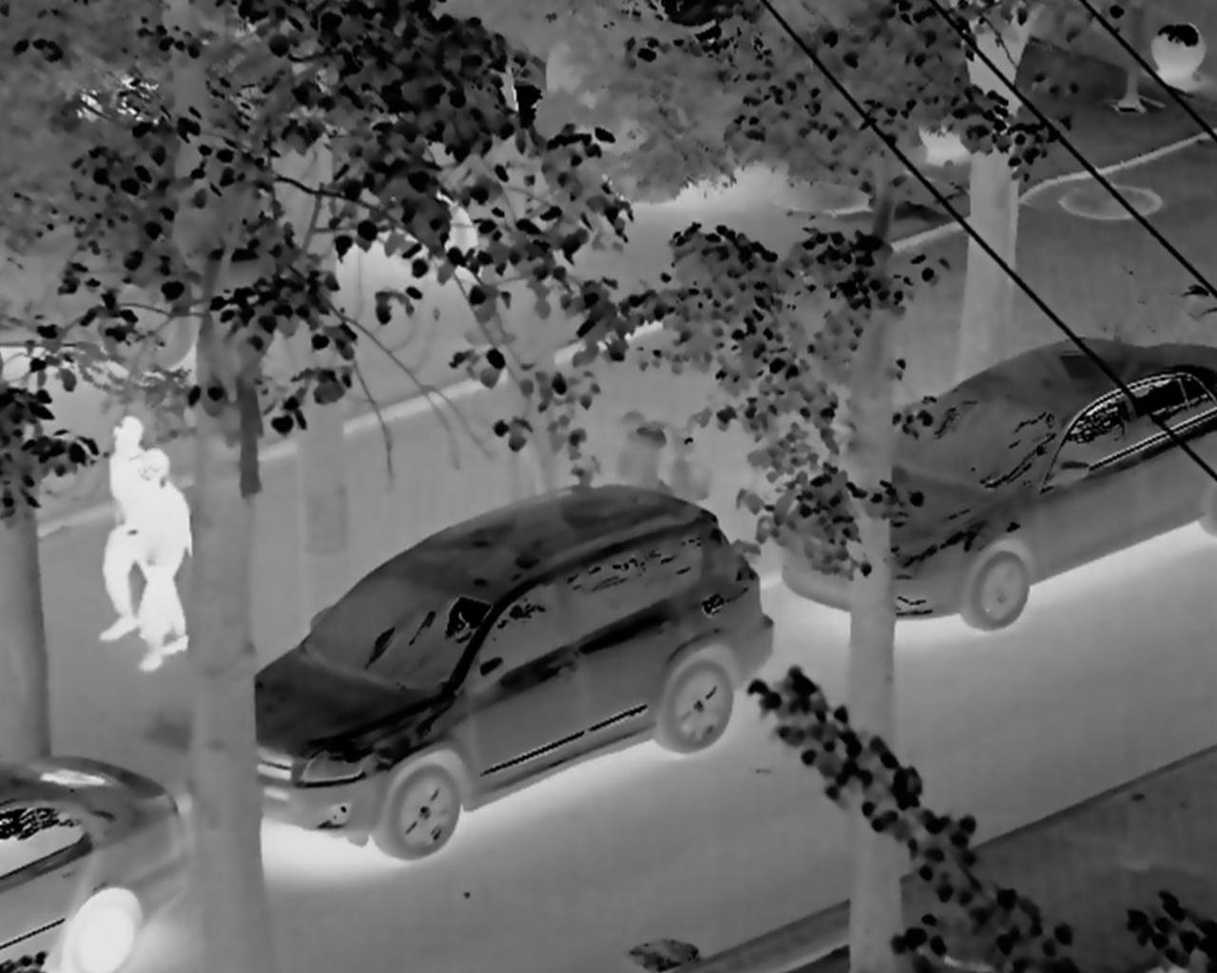person: (89, 410, 157, 662), (131, 447, 199, 658)
